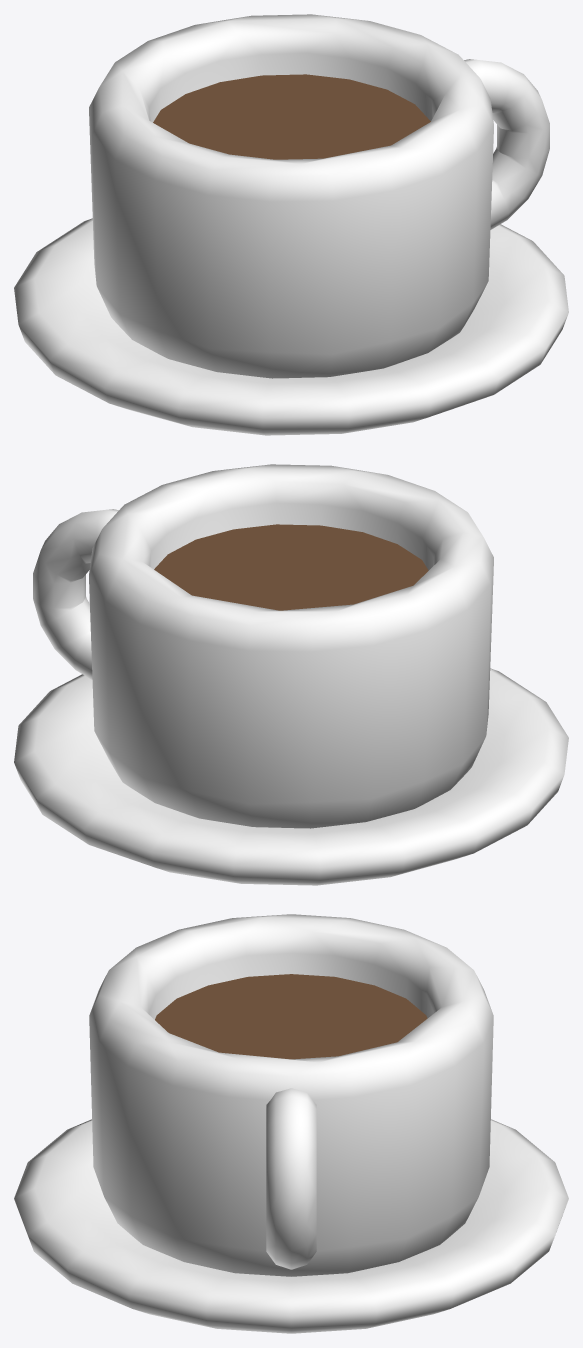
Rendered from Drink_Cup_02_Coffee.glb.
The picture shows the model from 3 angles, top to bottom: view 1: azimuth 30°, elevation 25°; view 2: azimuth 150°, elevation 25°; view 3: azimuth 270°, elevation 25°; orthographic projection.
Visible parts, largest first — view 1: SM_Drink_Cup_02_Cup, SM_Drink_Cup_02_Saucer, SM_Drink_Cup_02_Coffee; view 2: SM_Drink_Cup_02_Cup, SM_Drink_Cup_02_Saucer, SM_Drink_Cup_02_Coffee; view 3: SM_Drink_Cup_02_Cup, SM_Drink_Cup_02_Saucer, SM_Drink_Cup_02_Coffee.
Part boxes in pixels (box(x1,y1,x2,y2)): SM_Drink_Cup_02_Cup: box(89, 14, 549, 378); SM_Drink_Cup_02_Saucer: box(14, 218, 568, 435); SM_Drink_Cup_02_Coffee: box(153, 74, 430, 159); SM_Drink_Cup_02_Cup: box(33, 464, 493, 828); SM_Drink_Cup_02_Saucer: box(14, 668, 568, 885); SM_Drink_Cup_02_Coffee: box(154, 524, 428, 610); SM_Drink_Cup_02_Cup: box(89, 914, 493, 1276); SM_Drink_Cup_02_Saucer: box(14, 1119, 568, 1333); SM_Drink_Cup_02_Coffee: box(155, 974, 427, 1059).
Size of the model in its own units: 0.4585 by 0.2323 by 0.4463.
Materials: 1 (1 with a texture image).
